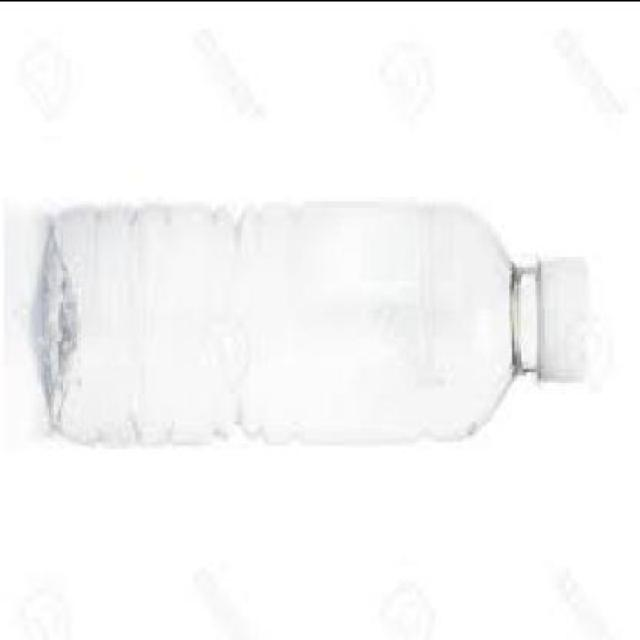PLASTIC: (40, 196, 591, 441), (535, 248, 591, 378)
